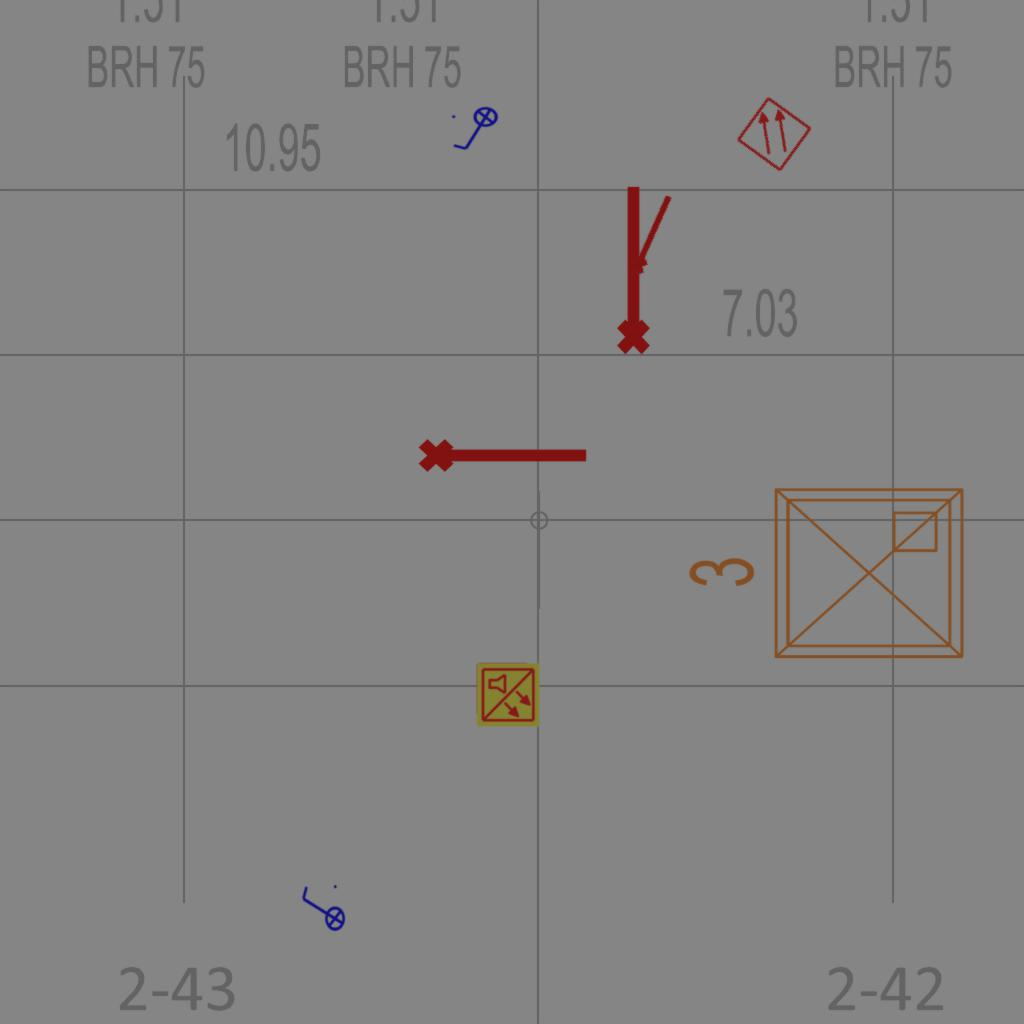ASR_Ansaugoeffnung: (416, 430, 592, 476), (608, 181, 654, 357), (622, 188, 680, 279)
Ausschalter_beleuchtet: (449, 106, 505, 154), (298, 882, 346, 938)
Einbaudownlights_LED_Konferenzraeume: (678, 473, 978, 681)
OKW_Multisensormelder_(Kombination_optischer_Rauch-Kahlenmonoxid_Waerme-Melder): (475, 662, 541, 728)
RMO_Rauchmelder_optischer: (734, 94, 814, 174)
